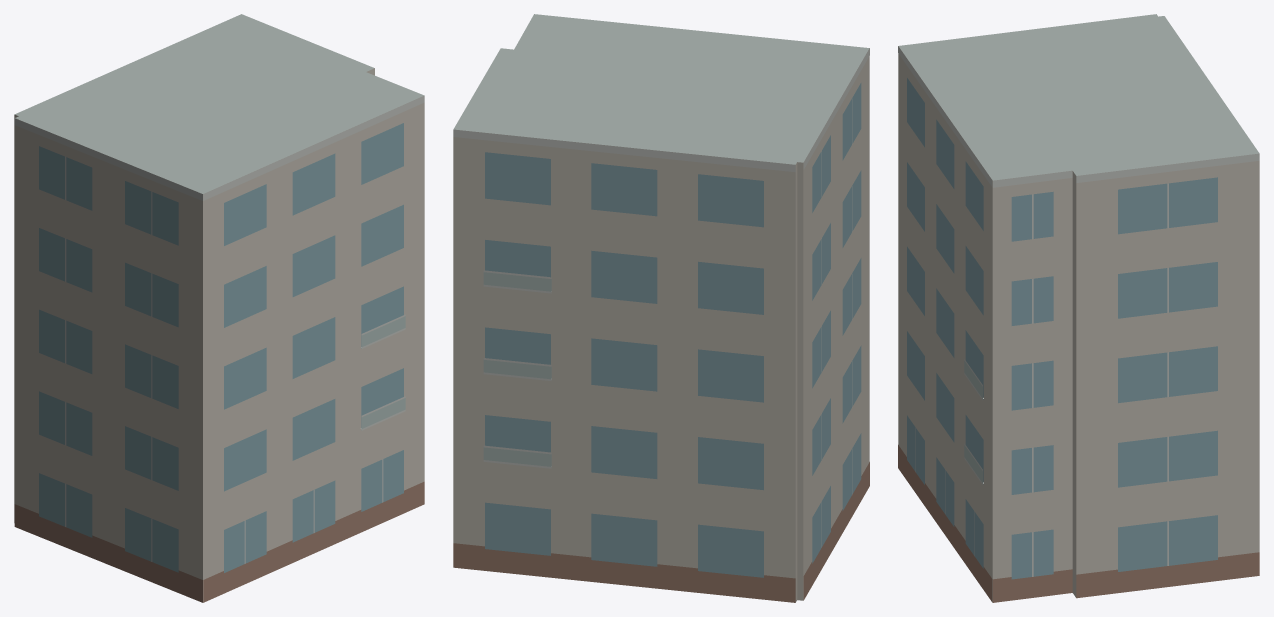
File: survey-upis-32611795.glb
3 renders of one model, left to right at view 1: azimuth 30°, elevation 25°; view 2: azimuth 150°, elevation 25°; view 3: azimuth 270°, elevation 25°, orthographic. The views are drawn at different scales.
Visible parts, largest first — view 1: survey-upis-32611795.tmp; view 2: survey-upis-32611795.tmp; view 3: survey-upis-32611795.tmp.
Boxes of the visible parts, left/top/right/bottom form: survey-upis-32611795.tmp: left=14, top=14, right=424, bottom=602; survey-upis-32611795.tmp: left=453, top=14, right=869, bottom=602; survey-upis-32611795.tmp: left=898, top=14, right=1259, bottom=602.
Size of the model in its own units: 12.11 by 14.3 by 11.11.
